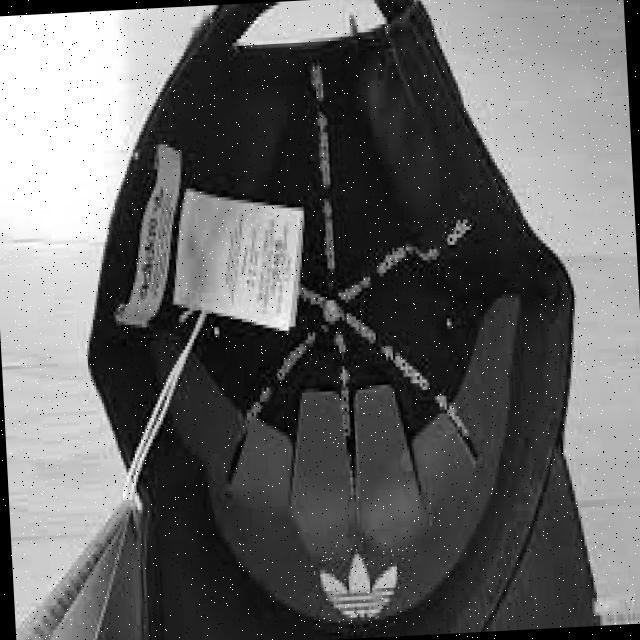Adidas: (310, 538, 414, 631)
